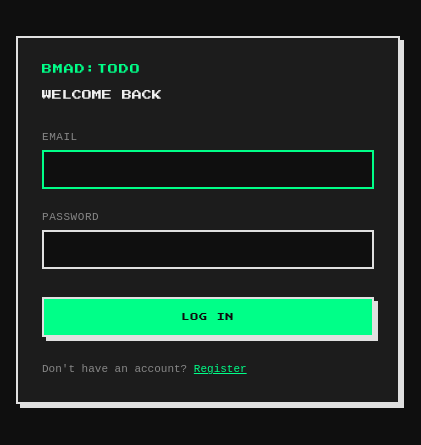
Test case: LoginPage › shows "Email is required" when submitting with no email
Click the button "LOG IN" at (208, 317), box [42, 297, 374, 337]
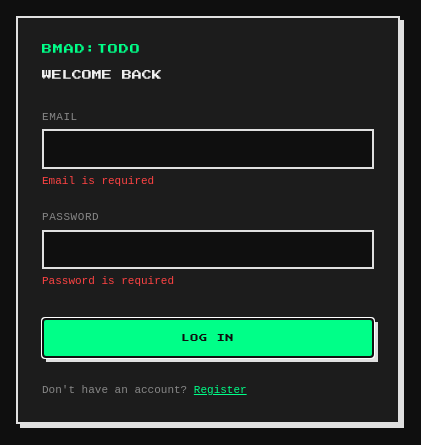
Expected: the text "Email is required" is shown, [42, 175, 154, 187]
